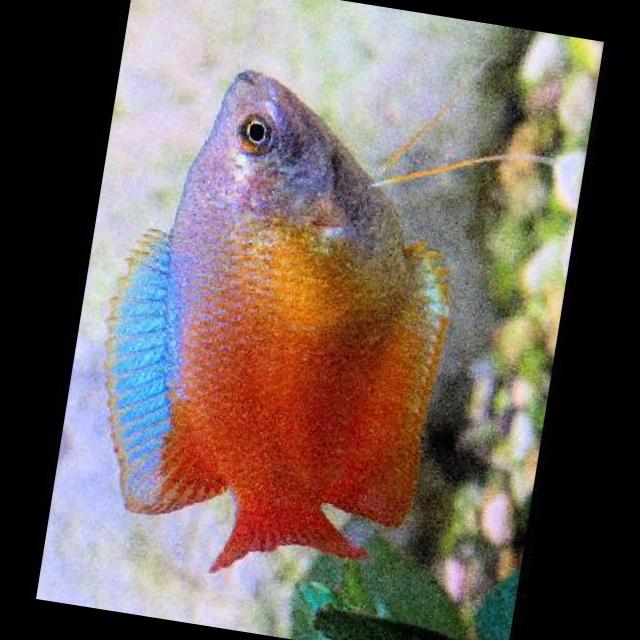Gourami: (68, 48, 486, 584)
